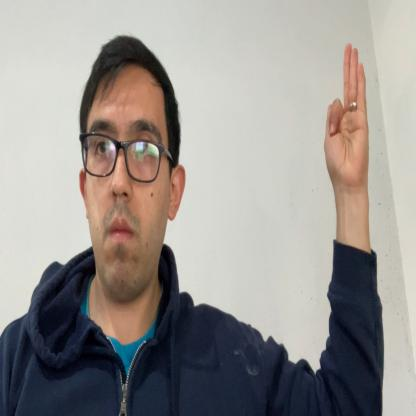F: (324, 44, 368, 188)
